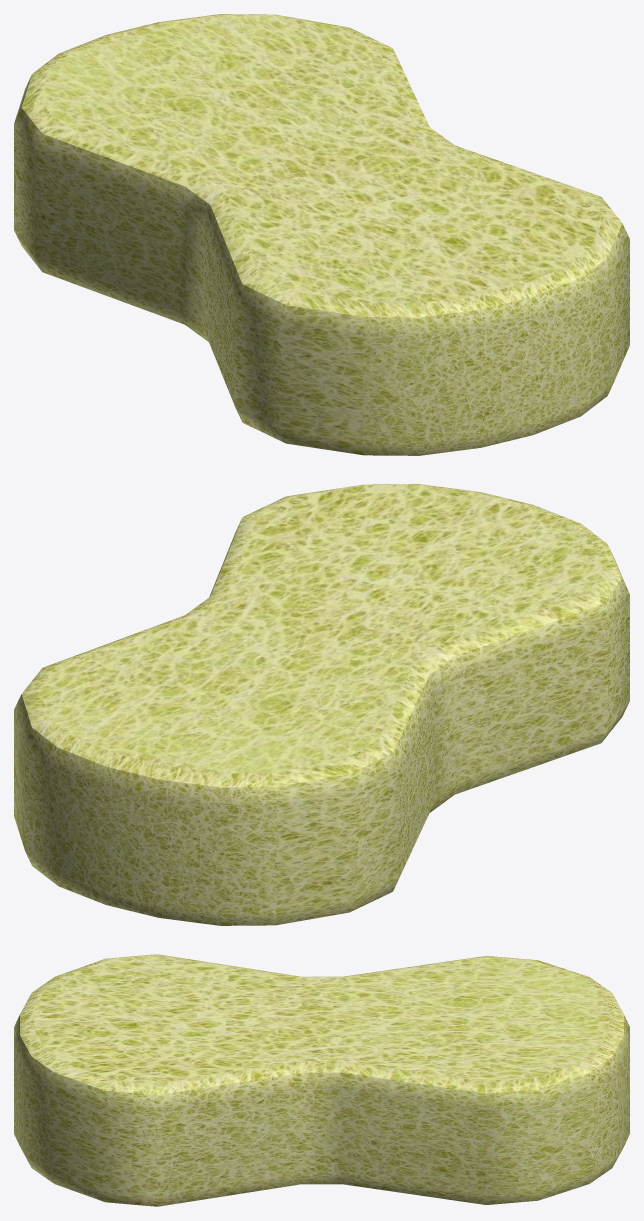
Rendered from sponge.fbx.
3 views of the same model, one above another, from view 1: azimuth 30°, elevation 25°; view 2: azimuth 150°, elevation 25°; view 3: azimuth 270°, elevation 25° (orthographic). The views are drawn at different scales.
Visible parts, largest first — view 1: sponge; view 2: sponge; view 3: sponge.
Boxes of the visible parts, x1,y1,x2,y2 form: sponge: [14, 14, 629, 455]; sponge: [14, 484, 629, 925]; sponge: [14, 954, 629, 1206].
Bounding box in the file's own units: 0.00361 × 0.00141 × 0.00642.
1 material, 1 textured.
